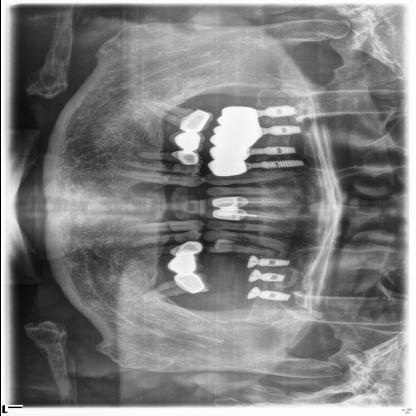Bicon: (253, 99, 301, 121), (236, 158, 310, 172), (240, 288, 295, 304), (239, 142, 301, 156), (243, 252, 293, 268), (236, 270, 292, 284), (260, 124, 306, 140)
